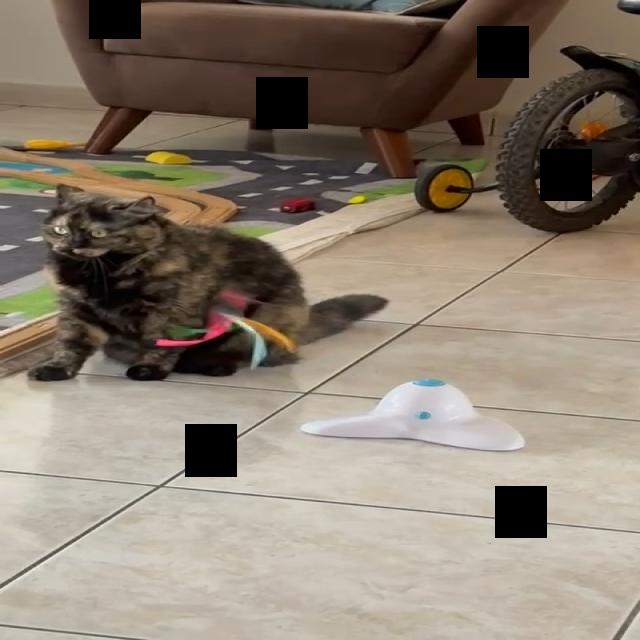authorized: (27, 183, 388, 382)
